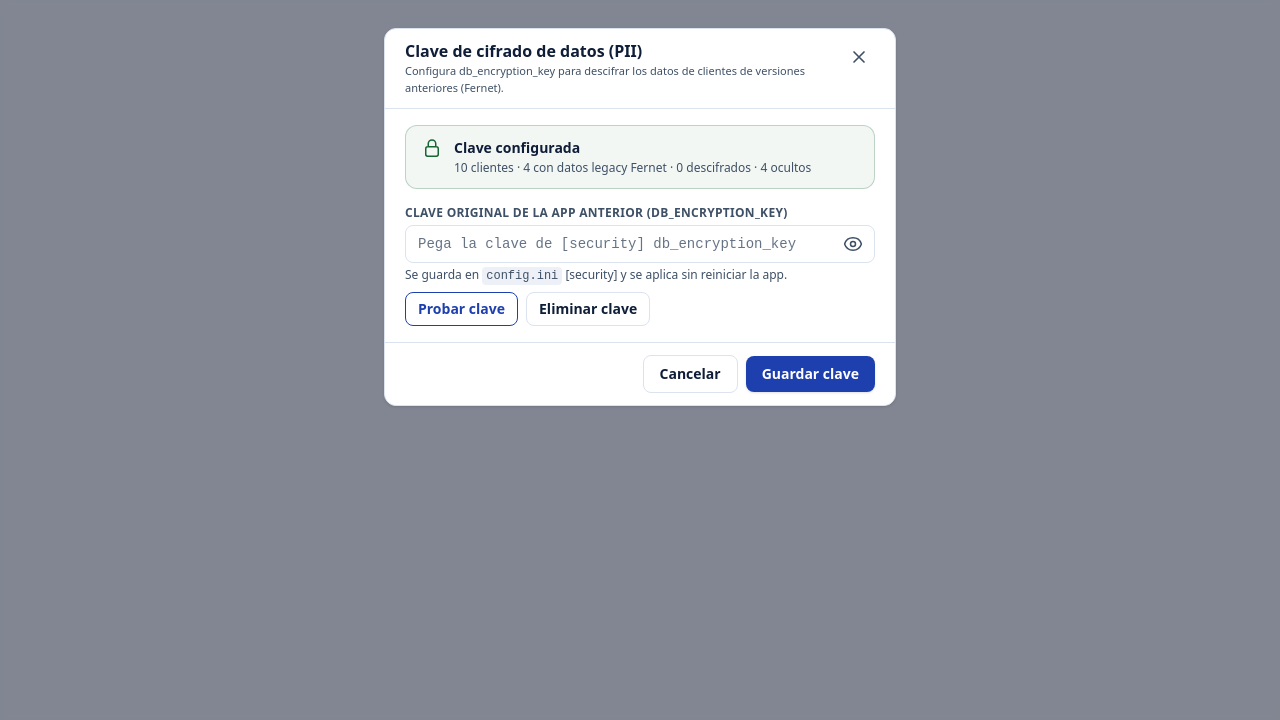
it: PiiKeyDialog — eliminar clave › cancelar el diálogo de confirmación NO elimina
Expected: the text "Clave configurada" is shown, left=454, top=138, right=580, bottom=157
Click the button "Eliminar clave" at (588, 309), box left=526, top=292, right=650, bottom=326
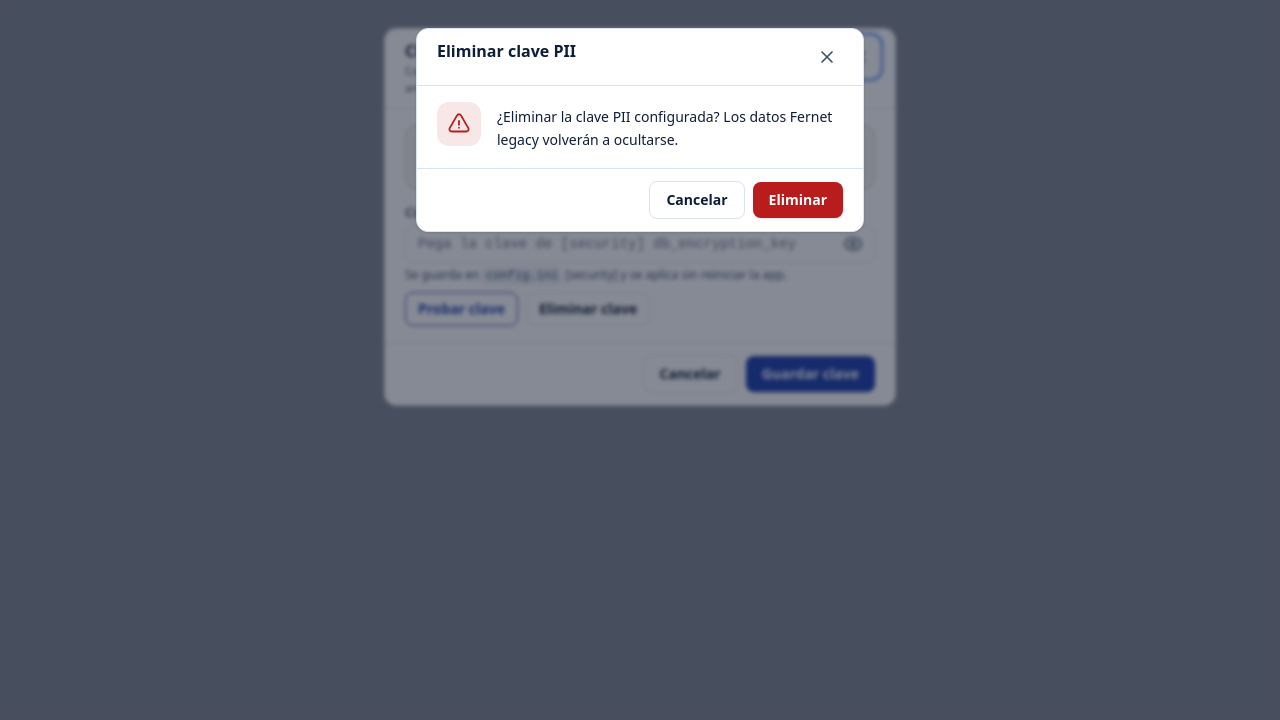
Click the button "Cancelar" at (697, 200), box left=650, top=180, right=745, bottom=218
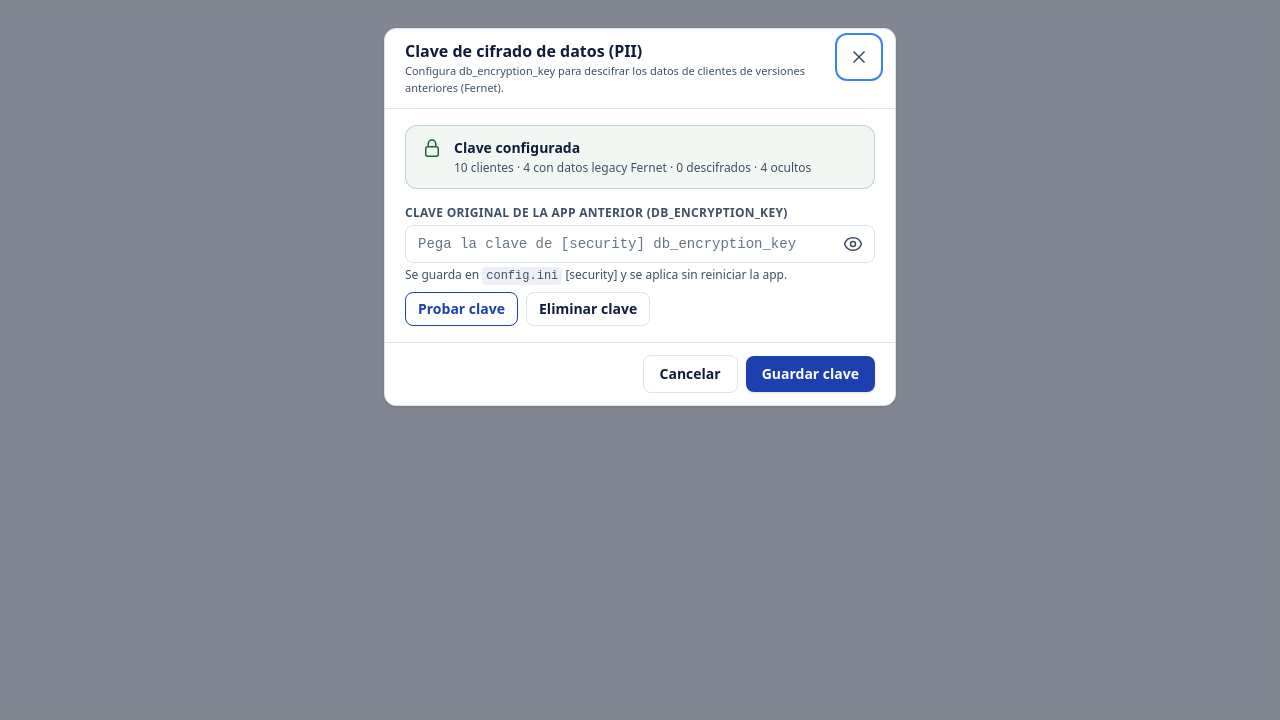
Result: the heading "Eliminar clave PII" is gone
